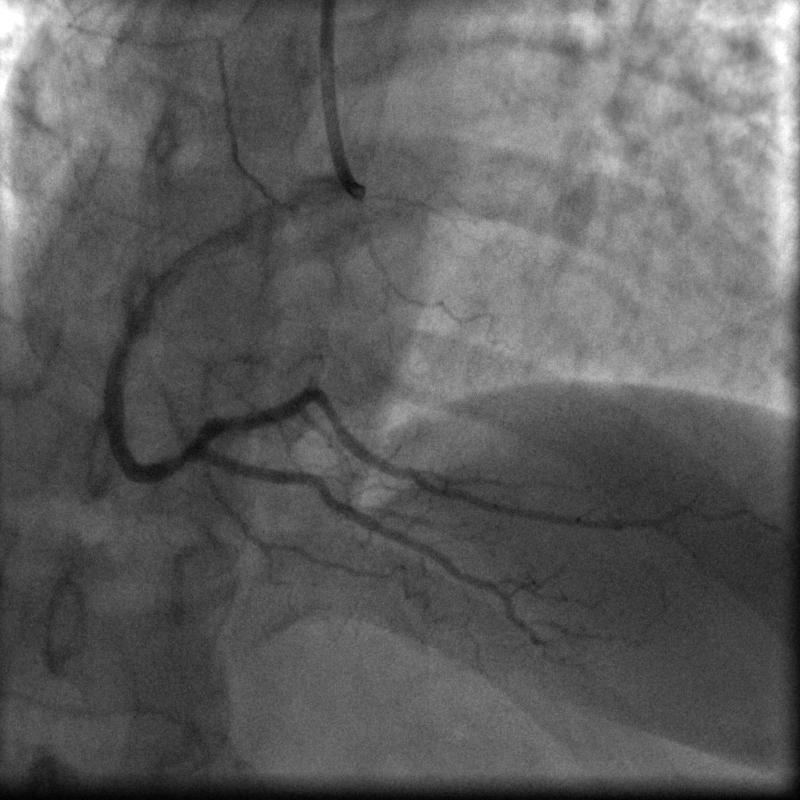Stenosis: (163, 447, 203, 470)
